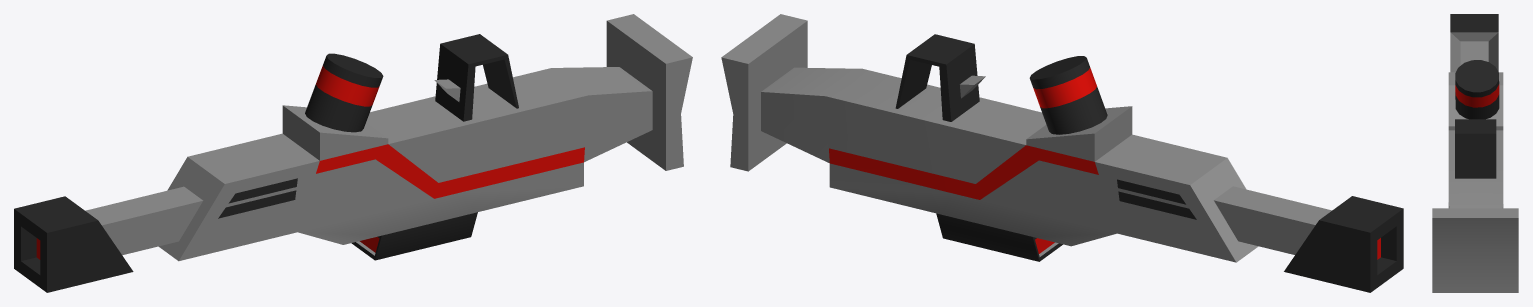
File: Gun.fbx
3 renders of one model, left to right at view 1: azimuth 30°, elevation 25°; view 2: azimuth 150°, elevation 25°; view 3: azimuth 270°, elevation 25°, orthographic. The views are drawn at different scales.
Parts seen in each view (by area): view 1: Cube.002; view 2: Cube.002; view 3: Cube.002.
Part boxes in pixels (x1,y1,x2,y2): Cube.002: (14,14,692,292); Cube.002: (721,14,1403,292); Cube.002: (1432,14,1518,292).
Bounding box in the file's own units: 220 × 65.53 × 35.51.
